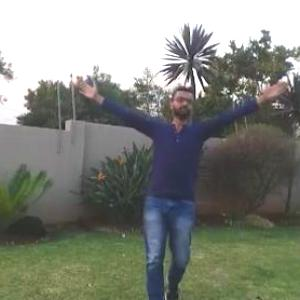takeoff: (58, 55, 299, 299)
